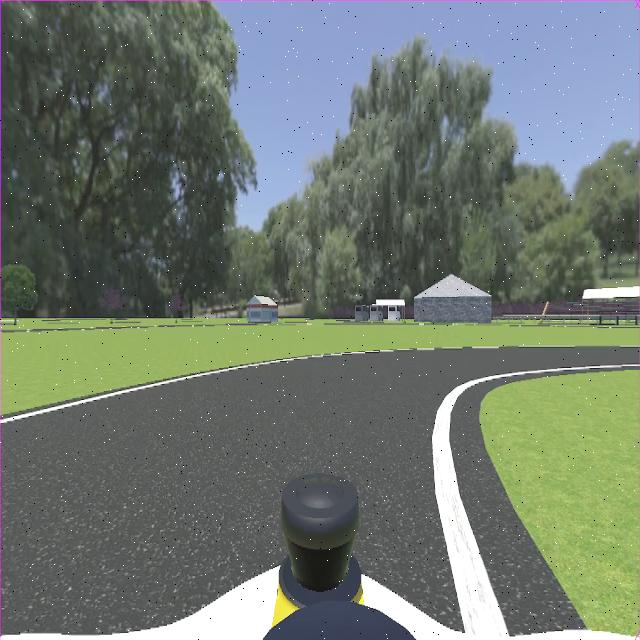road: (2, 349, 630, 632)
solid_line: (432, 367, 588, 636), (0, 356, 320, 425)
